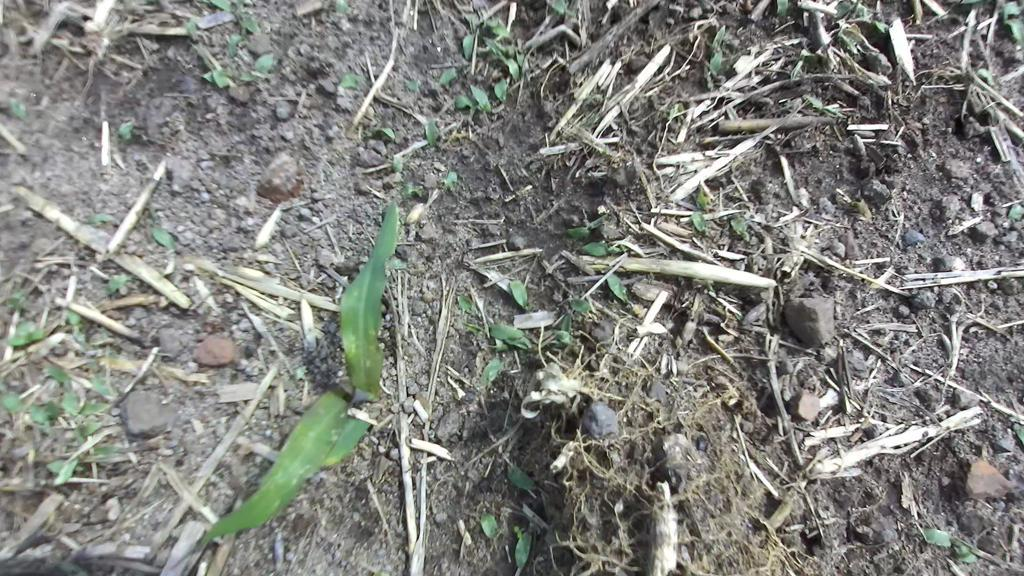BroWeed: (44, 360, 87, 419), (481, 29, 527, 83), (834, 20, 879, 66), (471, 352, 508, 396), (565, 213, 613, 246), (67, 409, 106, 448), (225, 2, 267, 36), (502, 461, 539, 499), (145, 218, 181, 257), (511, 519, 536, 572), (783, 46, 816, 85), (434, 55, 469, 91), (801, 91, 842, 121), (50, 455, 84, 490), (946, 534, 979, 570), (706, 22, 728, 76), (460, 322, 525, 340), (484, 13, 516, 49), (725, 212, 759, 244), (467, 78, 495, 116), (220, 24, 250, 59), (603, 271, 633, 306), (476, 506, 504, 543), (507, 277, 533, 315), (30, 399, 62, 429), (917, 526, 957, 550), (0, 377, 24, 416), (552, 313, 578, 349), (8, 326, 46, 350), (75, 393, 111, 418), (2, 93, 33, 122), (504, 329, 538, 355), (206, 64, 235, 94), (0, 288, 33, 313), (104, 272, 136, 296), (249, 48, 274, 78), (549, 324, 579, 349), (580, 239, 621, 257), (66, 308, 86, 343), (87, 372, 115, 397), (849, 196, 874, 224), (387, 146, 412, 174), (687, 208, 711, 236), (53, 558, 90, 576), (566, 293, 593, 317), (181, 14, 203, 43), (974, 65, 1000, 87), (423, 119, 443, 147), (459, 31, 476, 62), (85, 211, 120, 226), (14, 317, 39, 338), (194, 28, 221, 47), (339, 71, 364, 91), (512, 37, 528, 68), (226, 72, 261, 86), (363, 125, 397, 139), (196, 0, 235, 12), (46, 456, 69, 476), (873, 11, 892, 35), (431, 155, 450, 179), (453, 92, 477, 111), (442, 169, 460, 194), (694, 187, 710, 215), (88, 330, 115, 346), (664, 100, 686, 119), (117, 119, 134, 143), (456, 291, 474, 313), (629, 301, 649, 320), (162, 251, 177, 276), (408, 183, 430, 199), (494, 77, 507, 103), (483, 336, 505, 351), (291, 364, 309, 382), (402, 77, 422, 92), (776, 0, 789, 23), (93, 445, 120, 456), (398, 182, 414, 199), (235, 0, 252, 14), (856, 2, 869, 20), (200, 70, 214, 86), (513, 524, 524, 540), (493, 343, 509, 354), (944, 0, 986, 4), (506, 44, 516, 57)
Maize: (189, 199, 475, 576)
